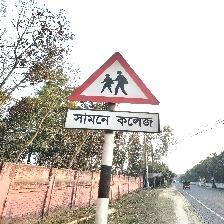College-in-front: (60, 42, 188, 160)
